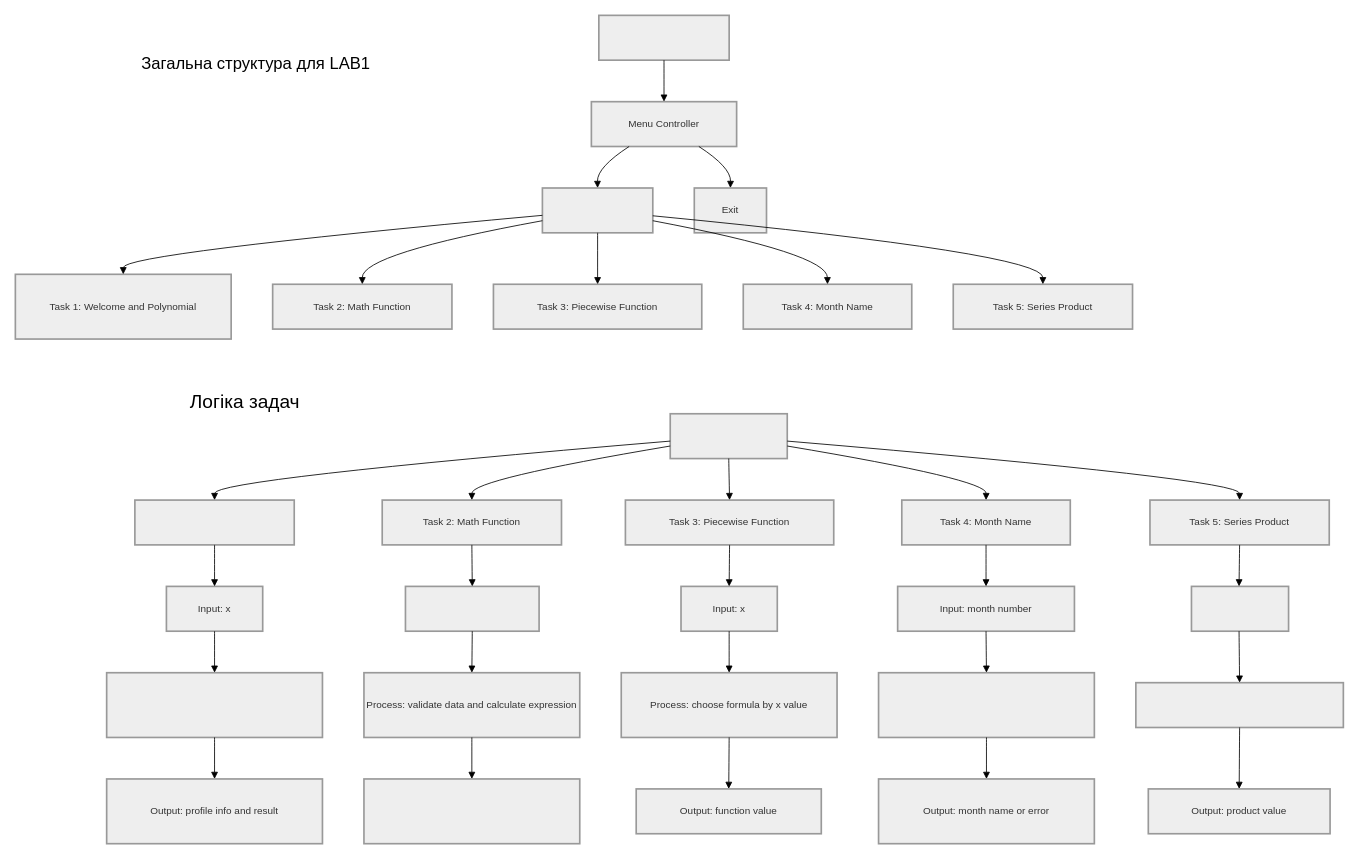
The diagram is 1358 pixels wide and 858 high, and some of its shapes have lost their labels. The box of each missing label's shape, as (x1, y1, x2, y2) in pixels:
Input: a and b: (404, 585, 540, 632)
Input: n: (1190, 585, 1289, 632)
LAB 1 Tasks: (669, 413, 788, 459)
Output: result or error message: (363, 778, 580, 844)
Process: calculate polynomial: (105, 671, 323, 738)
Process: calculate product: (1135, 681, 1344, 728)
Process: switch case mapping: (877, 671, 1095, 738)
Program Main: (598, 14, 730, 61)
Task 1: Polynomial: (134, 499, 295, 545)
Task Block: (541, 187, 653, 233)
